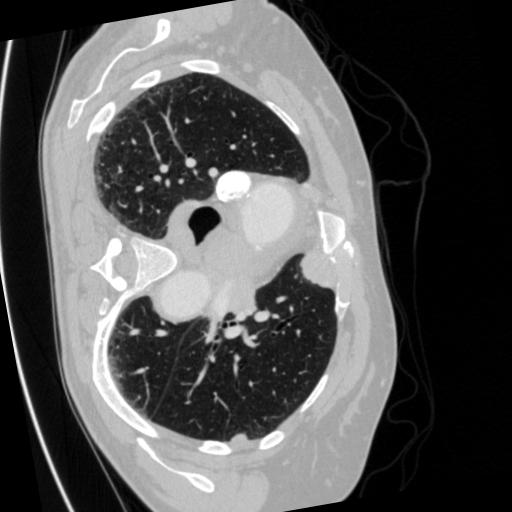nodule: (231, 427, 250, 446)
